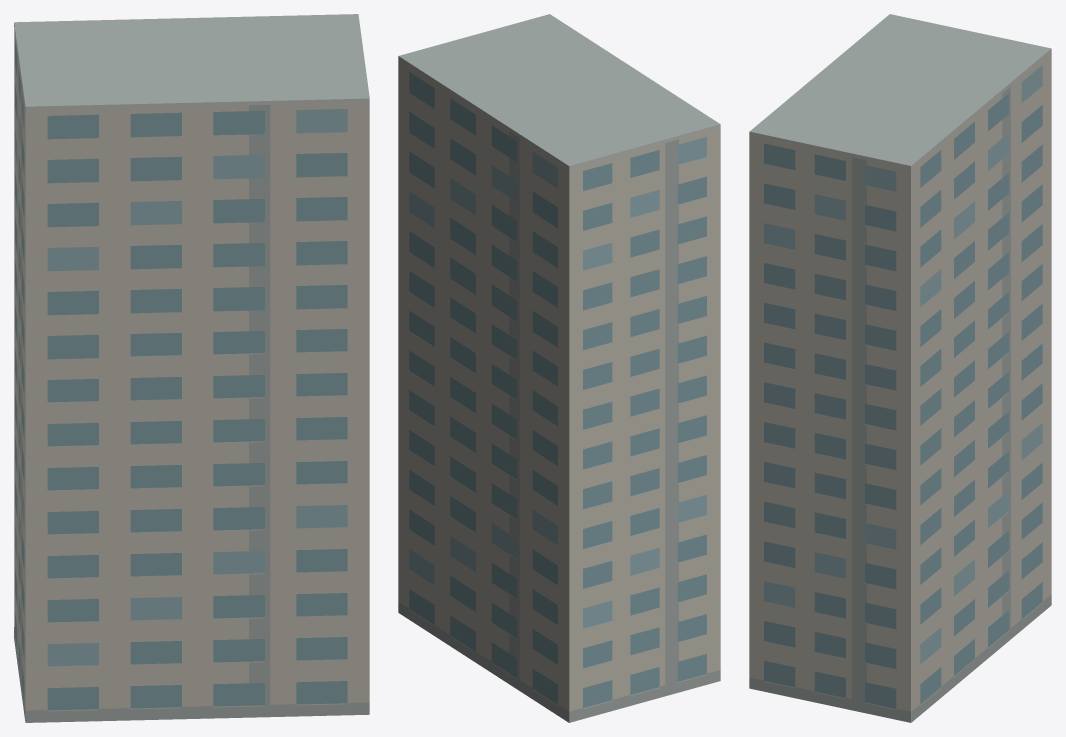
File: residential-268abe3a-a42f-4b9e-93ba-95a6aa42f7c2.glb
The picture shows the model from 3 angles, left to right: view 1: azimuth 30°, elevation 25°; view 2: azimuth 150°, elevation 25°; view 3: azimuth 270°, elevation 25°; orthographic projection. The views are drawn at different scales.
Visible parts, largest first — view 1: residential-268abe3a-a42f-4b9e-93ba-95a6aa42f7c2.tmp; view 2: residential-268abe3a-a42f-4b9e-93ba-95a6aa42f7c2.tmp; view 3: residential-268abe3a-a42f-4b9e-93ba-95a6aa42f7c2.tmp.
Boxes of the visible parts, box(x1,y1,x2,y2) form: residential-268abe3a-a42f-4b9e-93ba-95a6aa42f7c2.tmp: box(14, 14, 369, 722); residential-268abe3a-a42f-4b9e-93ba-95a6aa42f7c2.tmp: box(398, 14, 720, 722); residential-268abe3a-a42f-4b9e-93ba-95a6aa42f7c2.tmp: box(749, 14, 1051, 722).
Size of the model in its own units: 22.25 by 38 by 18.69.
